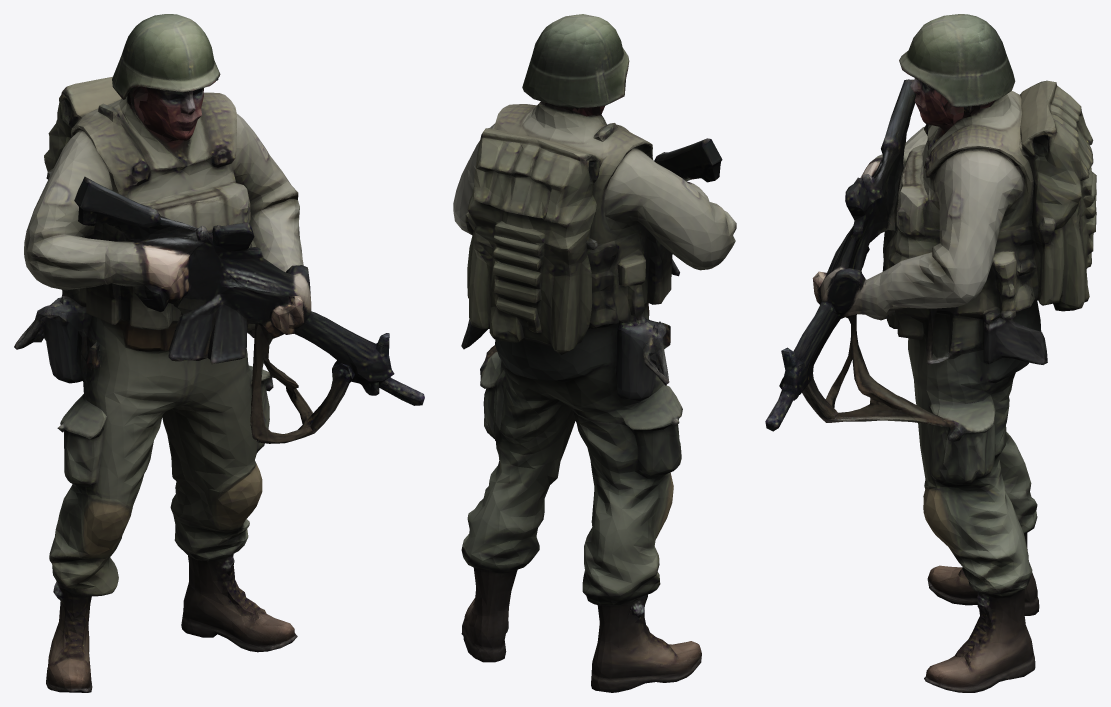
File: gunner-mesh.glb
3 views of the same model, side by side, from view 1: azimuth 30°, elevation 25°; view 2: azimuth 150°, elevation 25°; view 3: azimuth 270°, elevation 25° (orthographic). The views are drawn at different scales.
Parts seen in each view (by area): view 1: world; view 2: world; view 3: world.
Part boxes in pixels (left/top/right/bottom): world: left=14, top=14, right=424, bottom=692; world: left=453, top=14, right=736, bottom=692; world: left=765, top=14, right=1096, bottom=692.
Bounding box in the file's own units: 0.4991 × 0.9998 × 0.4825.
Materials: 1 (1 with a texture image).
